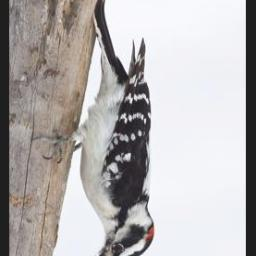Woodpecker: (30, 0, 157, 256)
